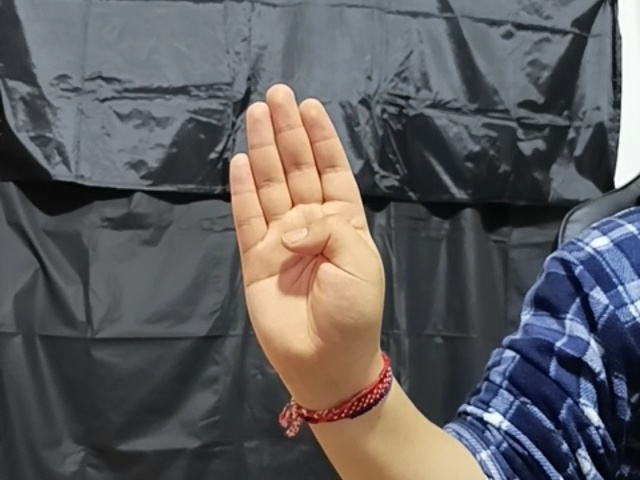B: (224, 79, 391, 366)
